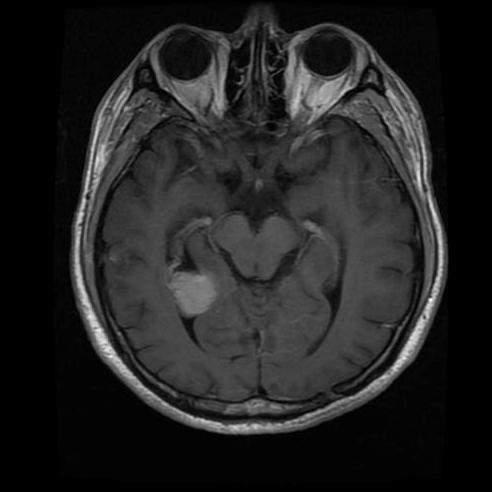Tumour-Meningioma: (144, 262, 238, 335)
